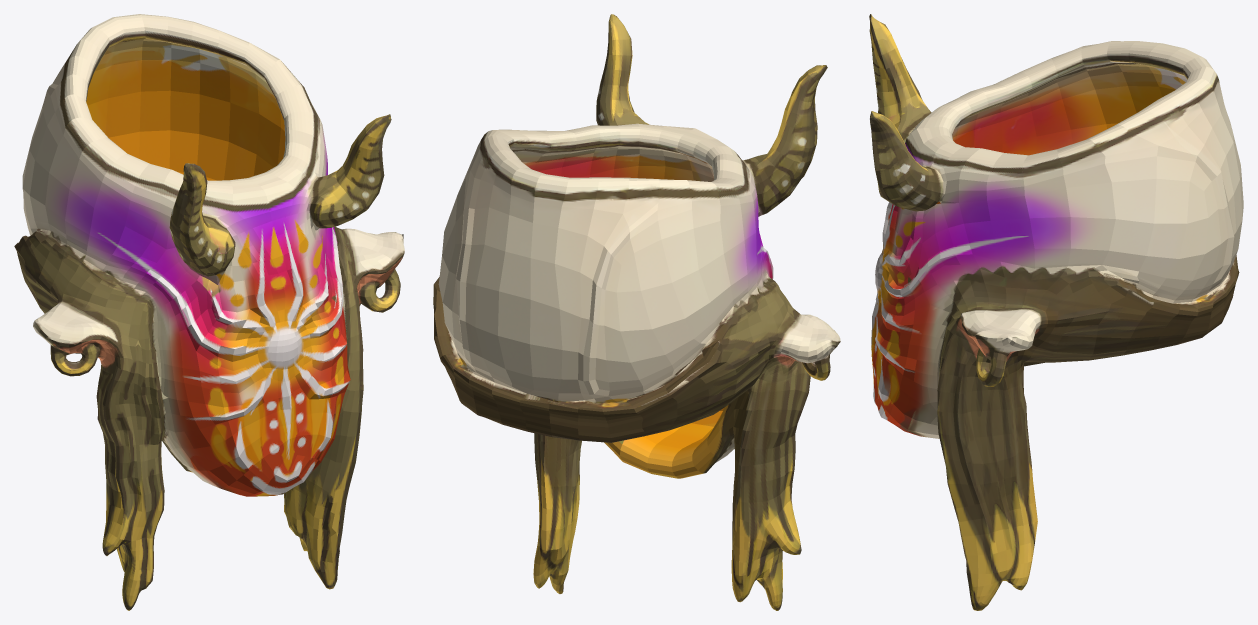
Rendered from Meshy_AI_Sunburst_Skull_0606013808_texture.obj.
3 views of the same model, side by side, from view 1: azimuth 30°, elevation 25°; view 2: azimuth 150°, elevation 25°; view 3: azimuth 270°, elevation 25° (orthographic). The views are drawn at different scales.
Visible parts, largest first — view 1: Meshy_AI_Sunburst_Skull_0606013808_texture; view 2: Meshy_AI_Sunburst_Skull_0606013808_texture; view 3: Meshy_AI_Sunburst_Skull_0606013808_texture.
Boxes of the visible parts, x1=… form: Meshy_AI_Sunburst_Skull_0606013808_texture: x1=14, y1=14, x2=404, y2=610; Meshy_AI_Sunburst_Skull_0606013808_texture: x1=433, y1=14, x2=840, y2=610; Meshy_AI_Sunburst_Skull_0606013808_texture: x1=869, y1=14, x2=1243, y2=610.
Size of the model in its own units: 1.42 by 1.9 by 1.28.
1 material, 1 textured.
